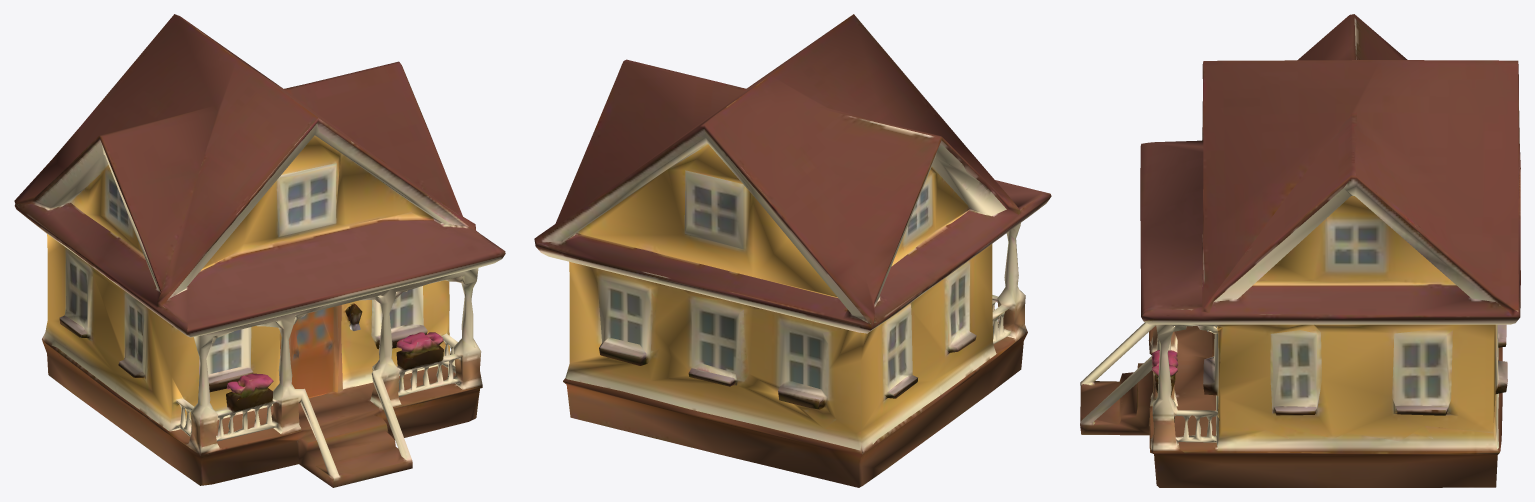
The model's file is house_bungalow.glb.
The picture shows the model from 3 angles, left to right: view 1: azimuth 30°, elevation 25°; view 2: azimuth 150°, elevation 25°; view 3: azimuth 270°, elevation 25°; orthographic projection. The views are drawn at different scales.
Bounding box in the file's own units: 0.9284 × 0.8838 × 0.9968.
1 material, 1 textured.
